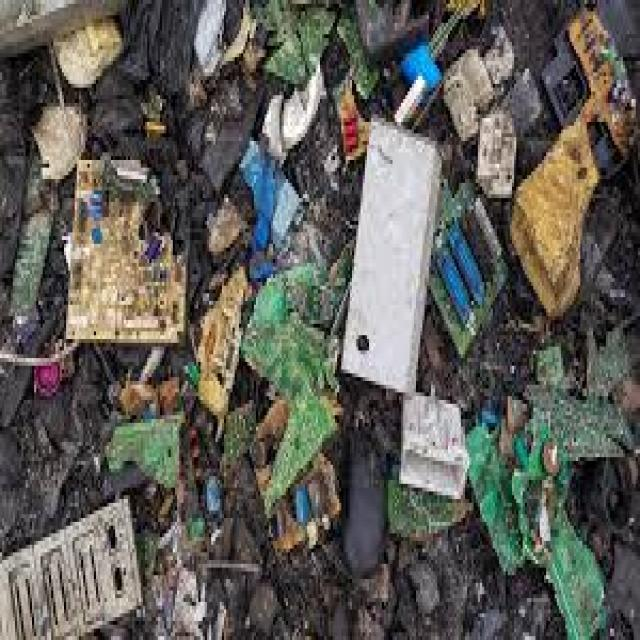Hazard: (62, 11, 586, 552)
